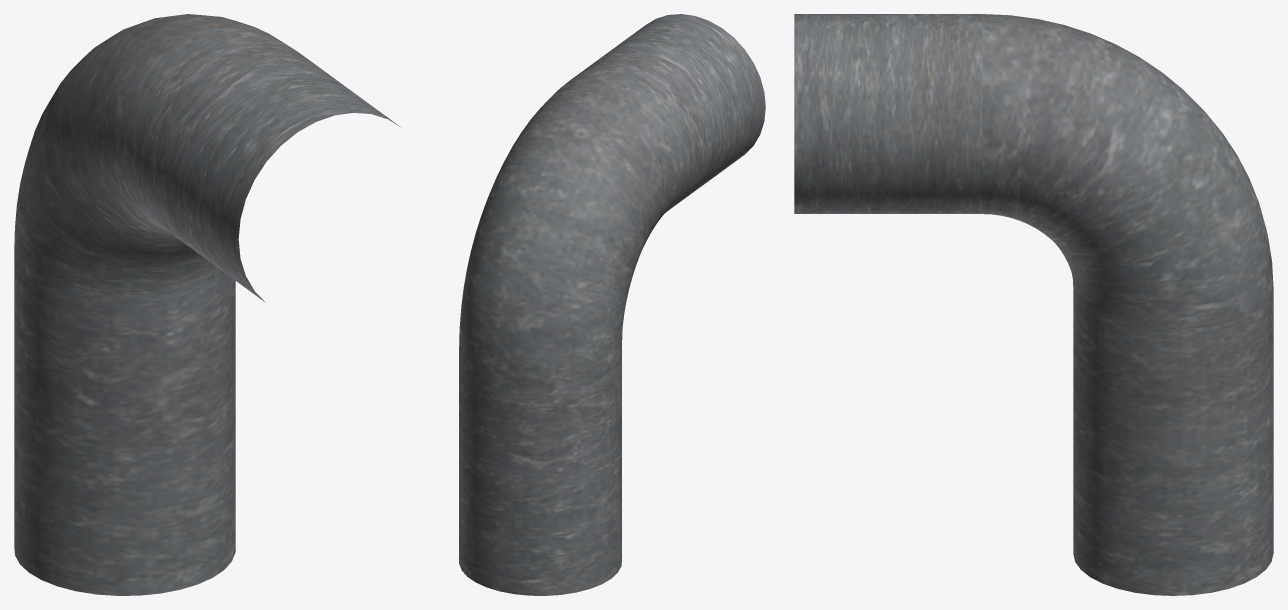
The model's file is scenery_1.glb.
3 renders of one model, left to right at view 1: azimuth 30°, elevation 25°; view 2: azimuth 150°, elevation 25°; view 3: azimuth 270°, elevation 25°, orthographic. The views are drawn at different scales.
Parts seen in each view (by area): view 1: Circle; view 2: Circle; view 3: Circle.
Boxes of the visible parts, x1,y1,x2,y2 form: Circle: (14, 14, 400, 595); Circle: (459, 14, 765, 595); Circle: (794, 14, 1273, 595).
Size of the model in its own units: 2.11 by 6.17 by 5.05.
Materials: 1 (1 with a texture image).
